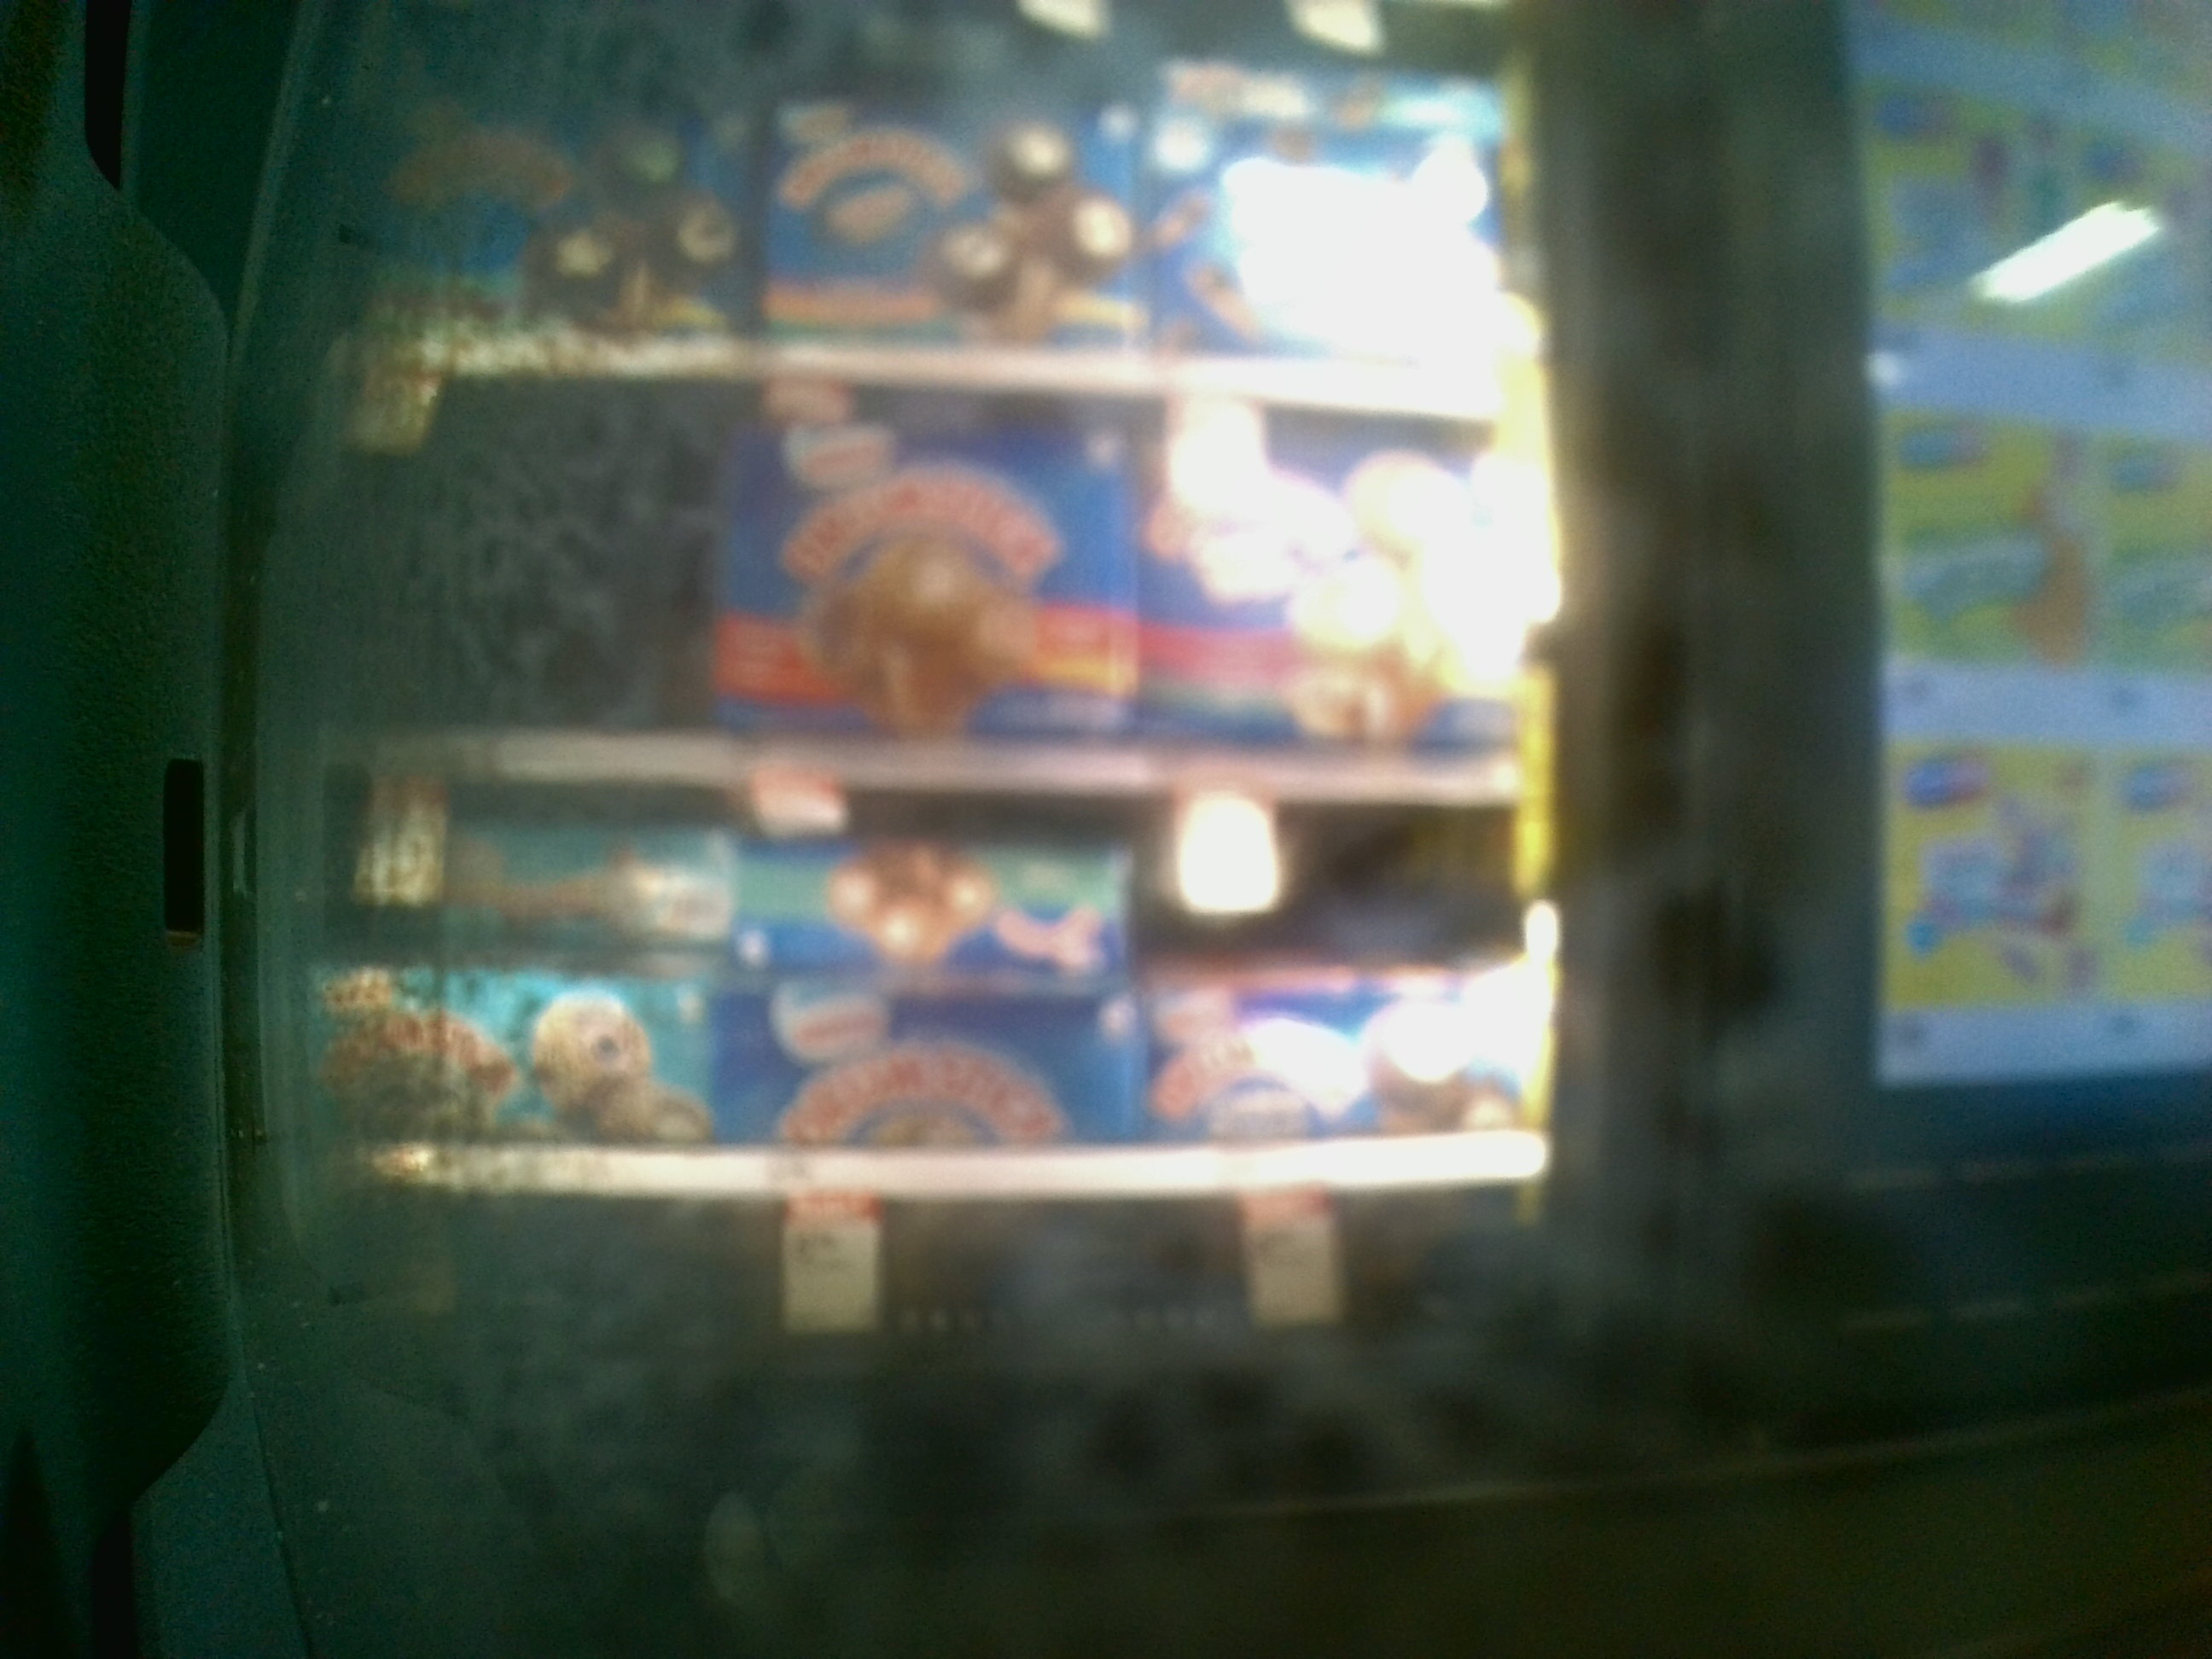shelf: (319, 793, 1569, 1293), (310, 373, 1543, 788)
